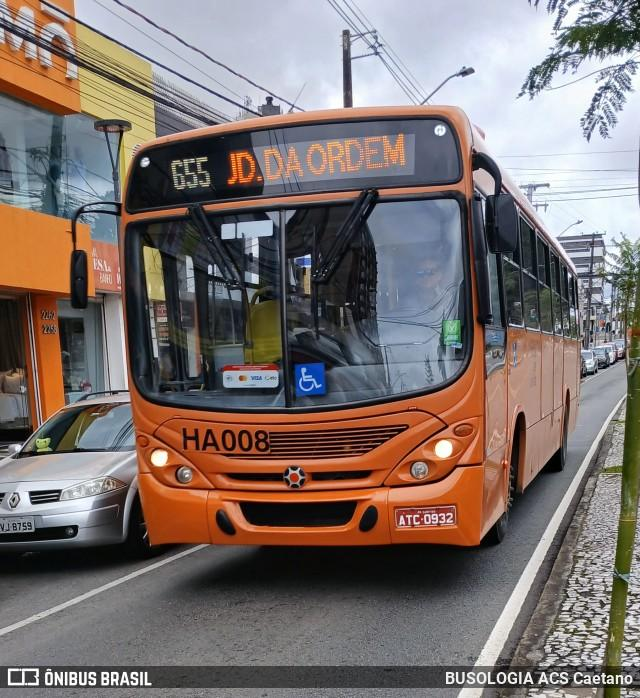JD DA ORDEM: (219, 128, 413, 192)
